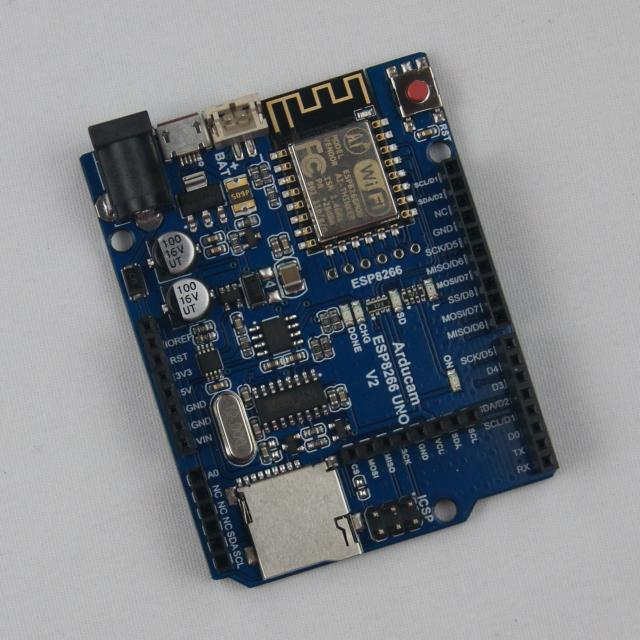Arduino Uno Camera Shield: (82, 53, 559, 587)
